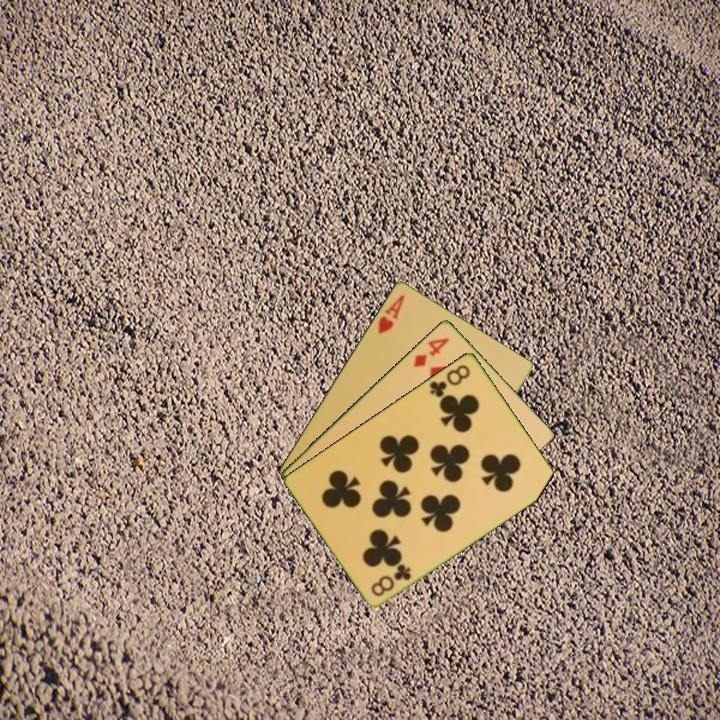4d: (410, 333, 452, 370)
8c: (426, 360, 473, 400), (367, 560, 414, 599)
Ah: (374, 291, 407, 337)
